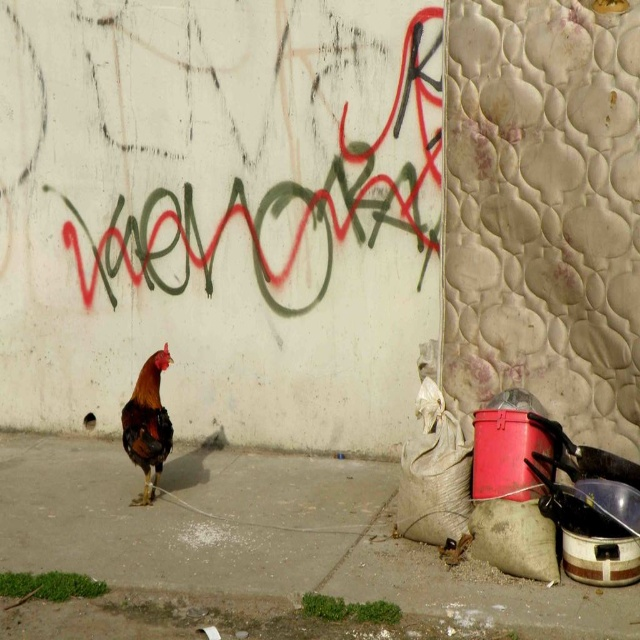Chicken: (119, 341, 174, 504)
